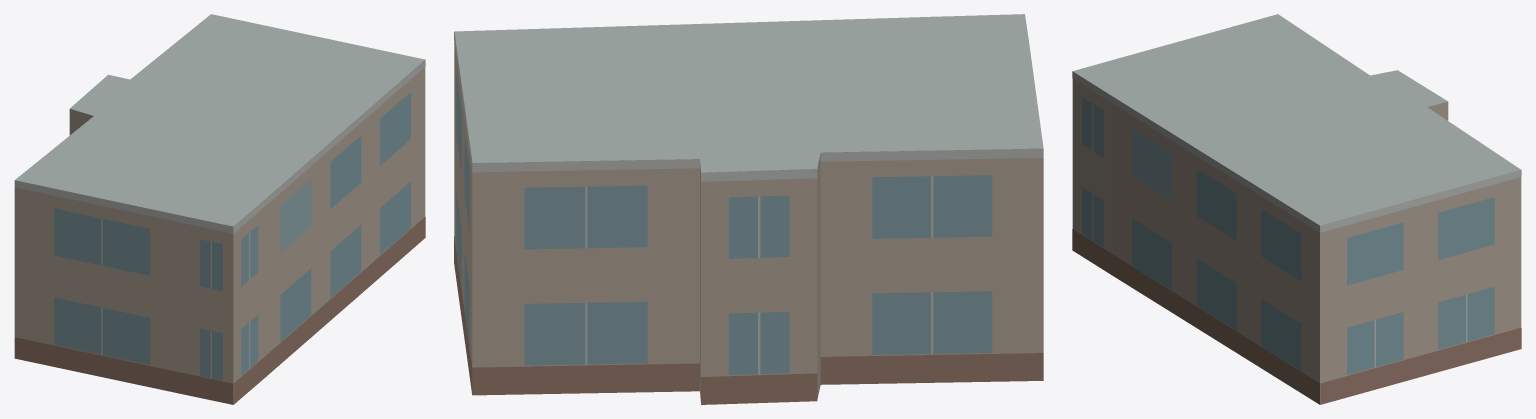
The model's file is survey-upis-32624062.glb.
3 views of the same model, side by side, from view 1: azimuth 30°, elevation 25°; view 2: azimuth 150°, elevation 25°; view 3: azimuth 270°, elevation 25° (orthographic). The views are drawn at different scales.
Visible parts, largest first — view 1: survey-upis-32624062.tmp; view 2: survey-upis-32624062.tmp; view 3: survey-upis-32624062.tmp.
Boxes of the visible parts, x1=… form: survey-upis-32624062.tmp: x1=14, y1=14, x2=425, y2=404; survey-upis-32624062.tmp: x1=454, y1=14, x2=1043, y2=404; survey-upis-32624062.tmp: x1=1072, y1=14, x2=1521, y2=404.
Bounding box in the file's own units: 15.46 × 6.1 × 13.86.
